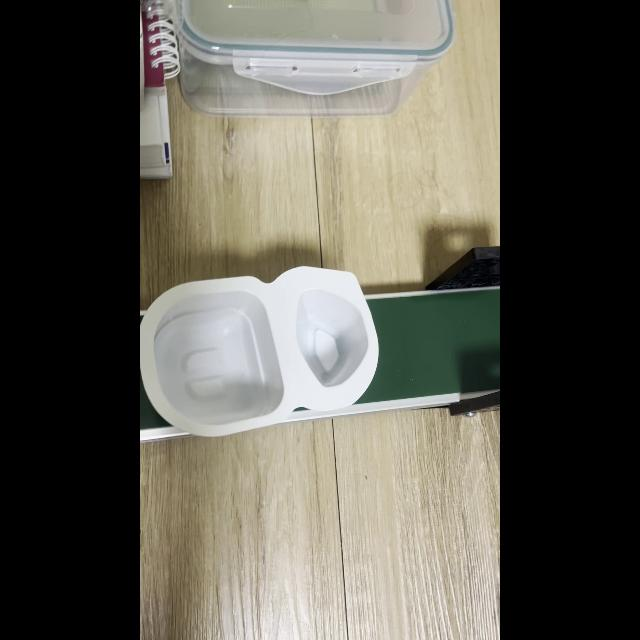clean: (144, 288, 356, 412)
